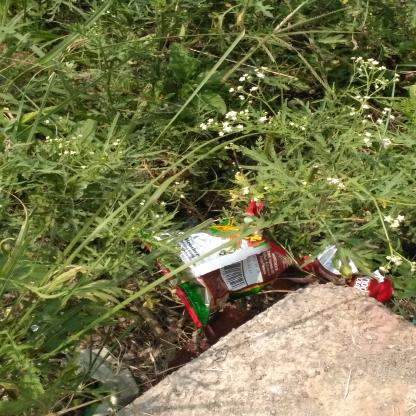trash: (135, 197, 318, 332), (298, 238, 398, 306)
